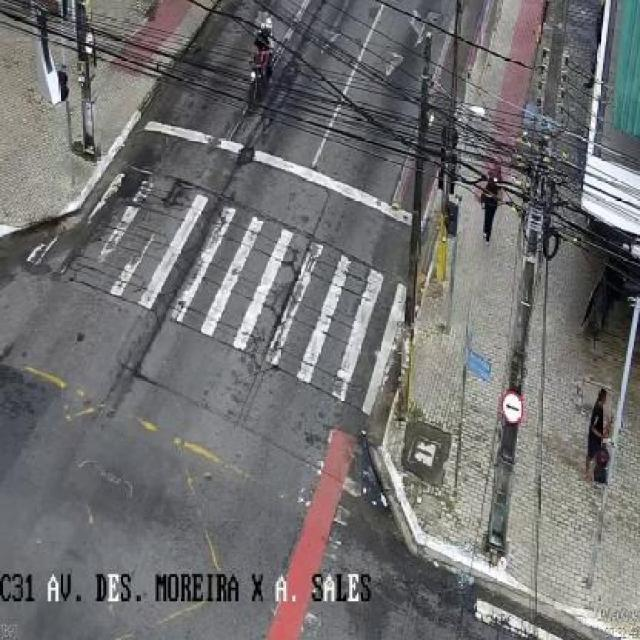Cycle: (243, 6, 280, 116)
